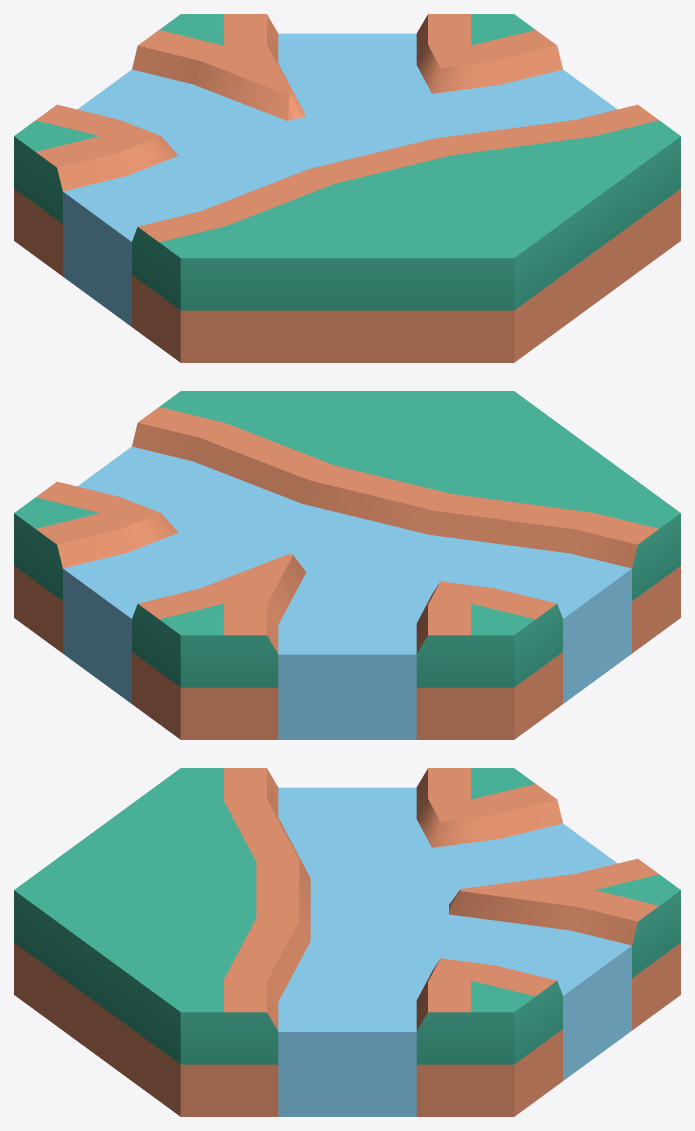
The model's file is river-intersection-h.glb.
The picture shows the model from 3 angles, top to bottom: view 1: azimuth 30°, elevation 25°; view 2: azimuth 150°, elevation 25°; view 3: azimuth 270°, elevation 25°; orthographic projection.
Visible parts, largest first — view 1: river-intersectionH; view 2: river-intersectionH; view 3: river-intersectionH.
Boxes of the visible parts, left/top/right/bottom form: river-intersectionH: left=14, top=14, right=680, bottom=362; river-intersectionH: left=14, top=391, right=680, bottom=739; river-intersectionH: left=14, top=768, right=680, bottom=1116.
Bounding box in the file's own units: 1 × 0.2 × 1.15.
1 material, 1 textured.
